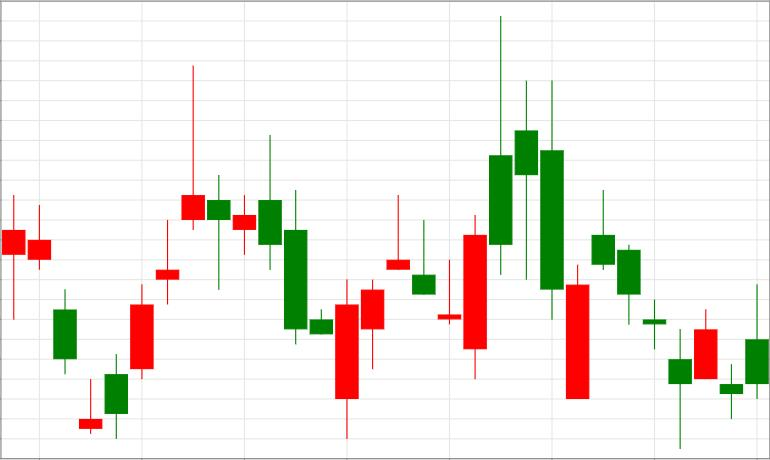shooting_star_fall: (79, 66, 206, 440)
